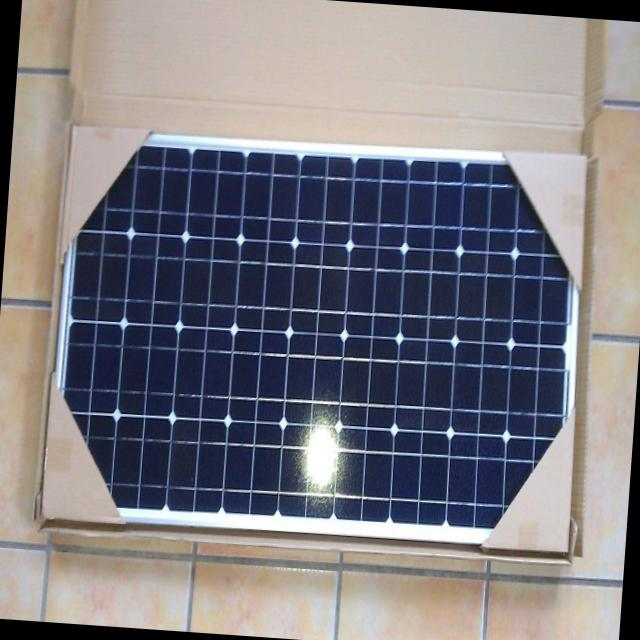no faulty: (110, 166, 508, 521)
